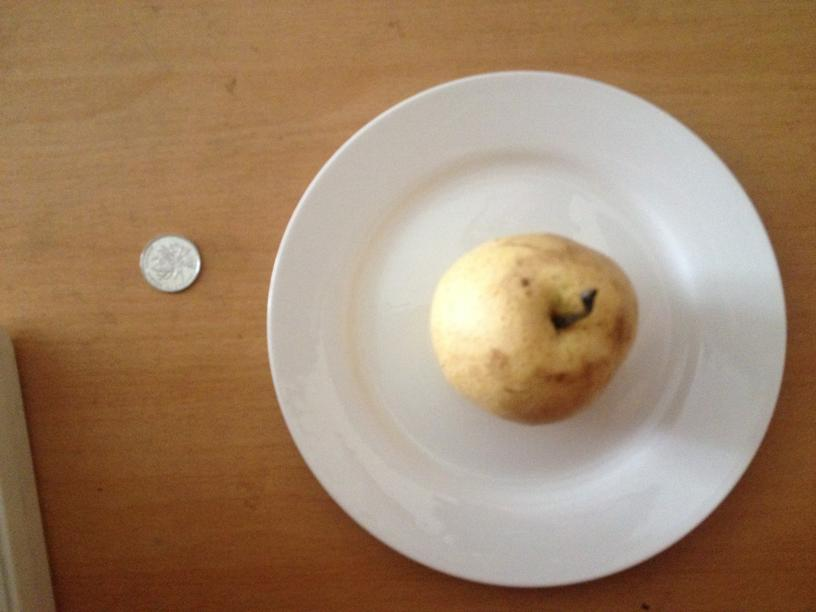coin: (138, 234, 202, 294)
pear: (432, 236, 638, 425)
